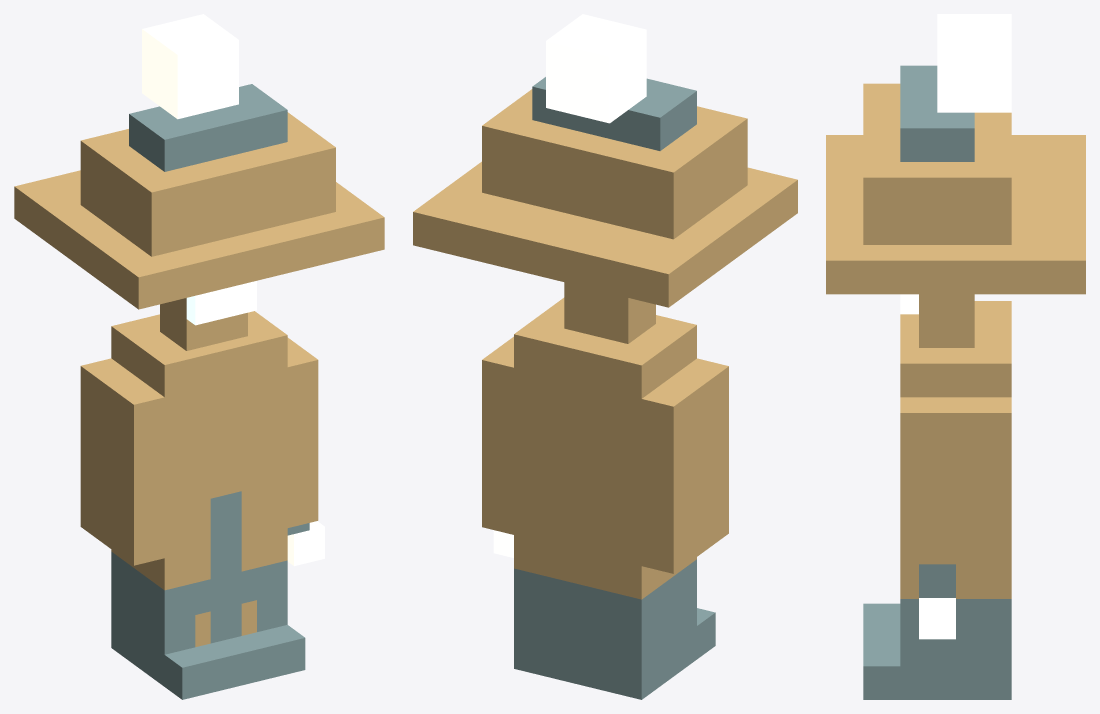
File: player_placeholder.glb
The picture shows the model from 3 angles, left to right: view 1: azimuth 30°, elevation 25°; view 2: azimuth 150°, elevation 25°; view 3: azimuth 270°, elevation 25°; orthographic projection. The views are drawn at different scales.
Visible parts, largest first — view 1: PlayerSurface; view 2: PlayerSurface; view 3: PlayerSurface.
Part boxes in pixels (bbox=[...]): PlayerSurface: bbox=[14, 14, 384, 699]; PlayerSurface: bbox=[413, 14, 797, 699]; PlayerSurface: bbox=[826, 14, 1085, 699].
Size of the model in its own units: 2 by 4.75 by 1.75.
